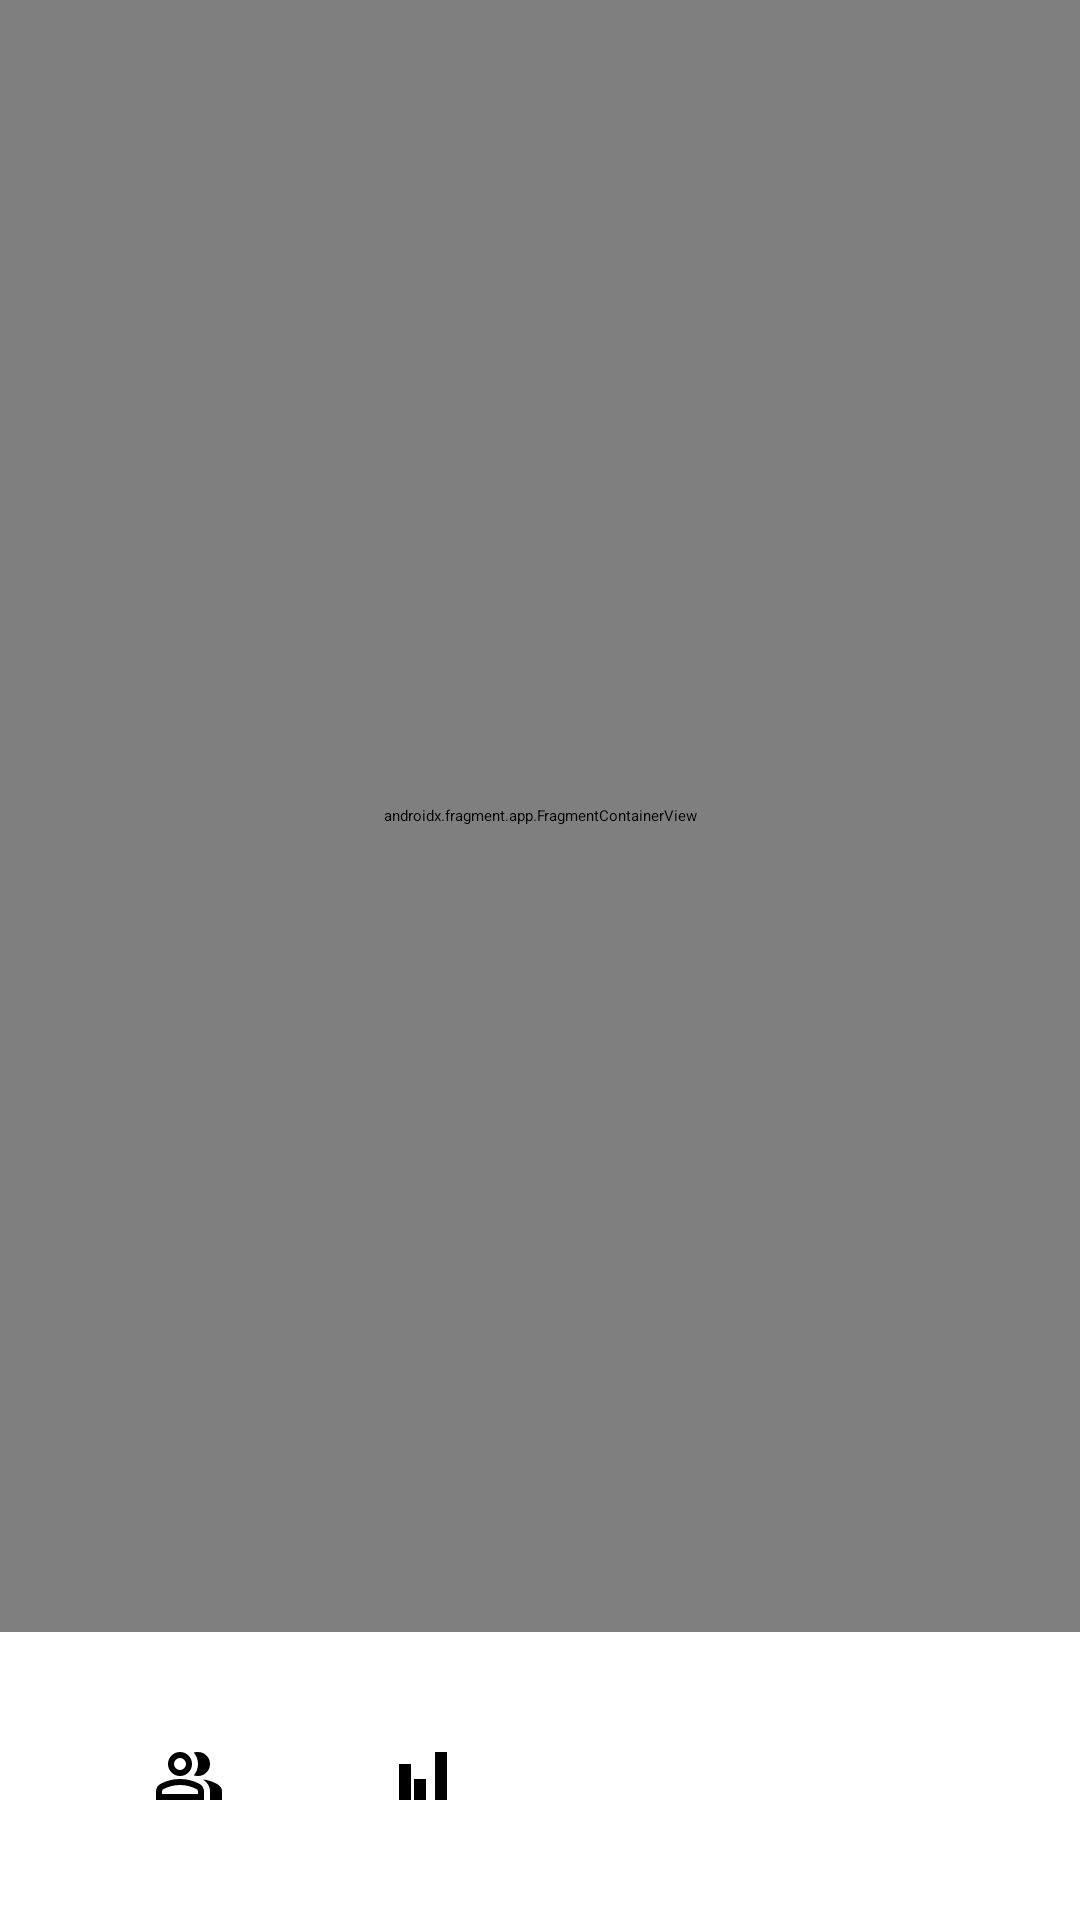

Named icons in this screenshot (1080 x 1920) and their bounding boxes, (x1, y1, x2, y2):
Members: (156, 1752, 222, 1800)
